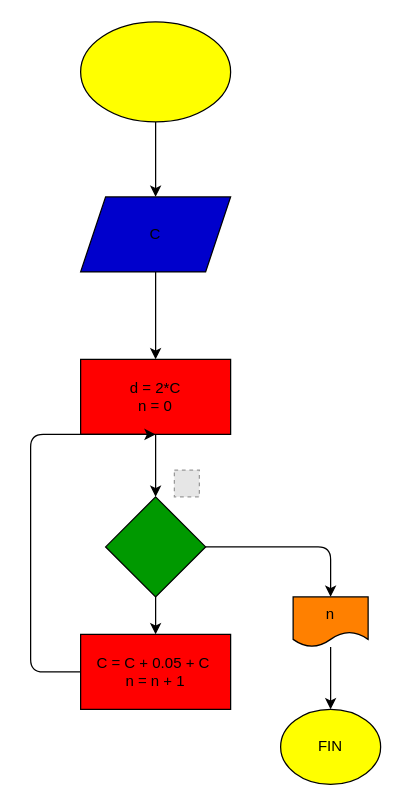
Image size: 403x806. Some labels were removed from this diagram. Grey dashed boxes stand in for pictures. The centre of each missing label's shape, as x and y in pixels:
"C < d" belongs at pixel 155 546.
"INICIO" belongs at pixel 155 71.
